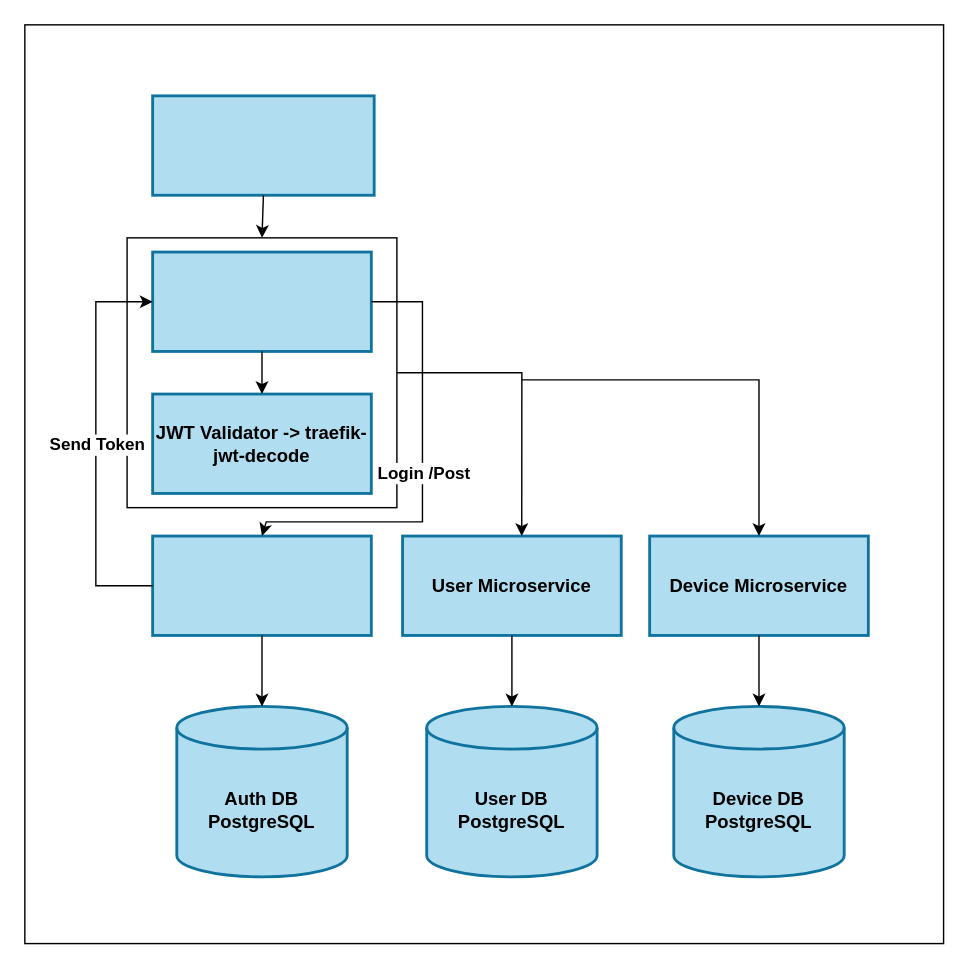
This 968x968 diagram has some shape labels left out. The centre of each missing label's shape, as x and y in pixels:
Auth Microservice: point (261, 585)
Frontend -> React Build + Nginx: point (263, 145)
Reverse Proxy -> Traefik Configuration + Labels: point (261, 301)
